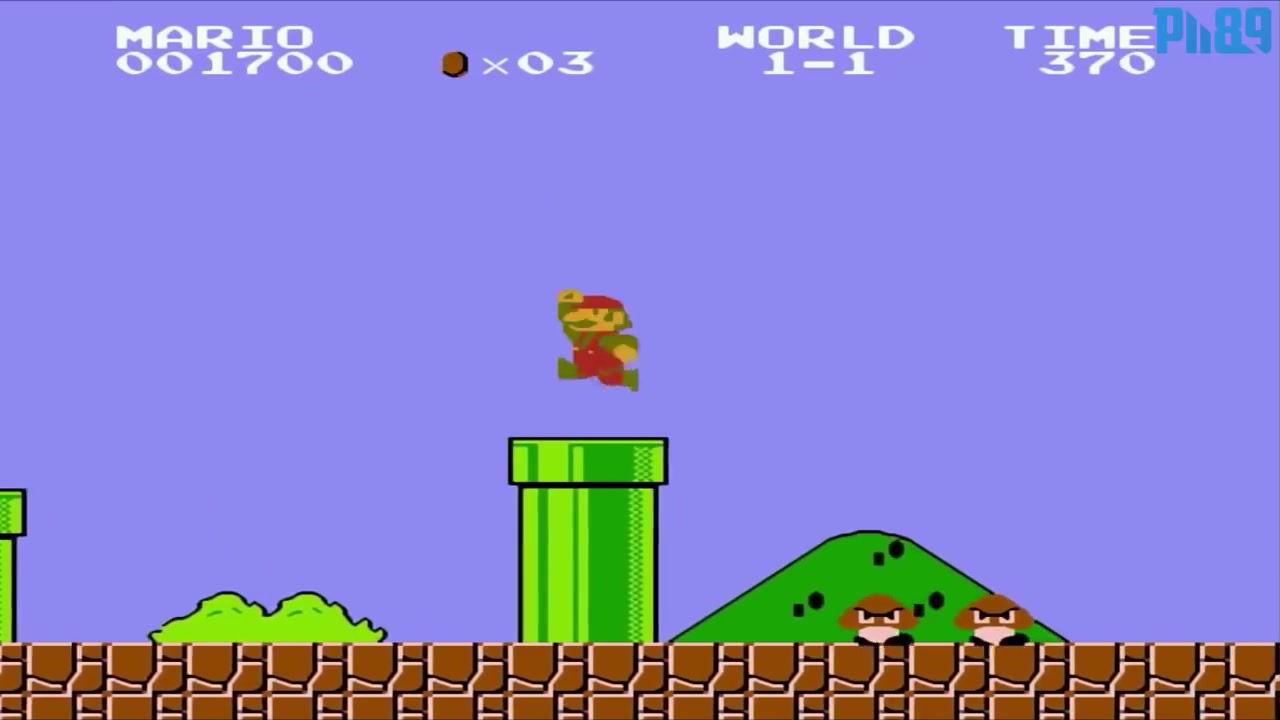mario: (542, 275, 652, 400)
